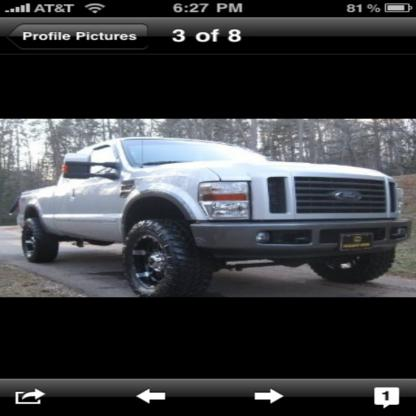Truck: (7, 136, 414, 299)
